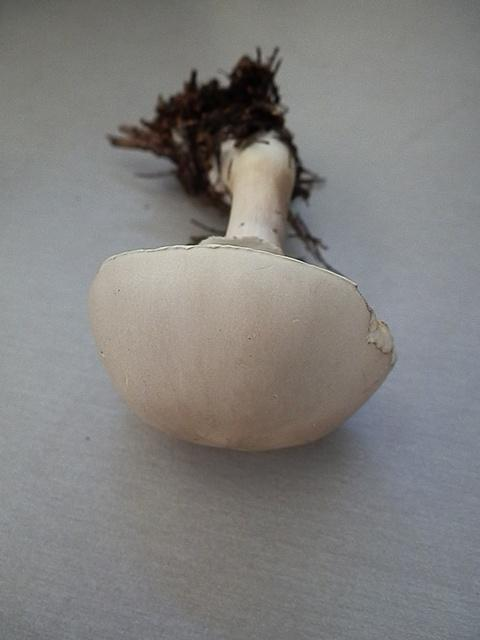Non-edible Mushroom: (85, 44, 398, 453)
